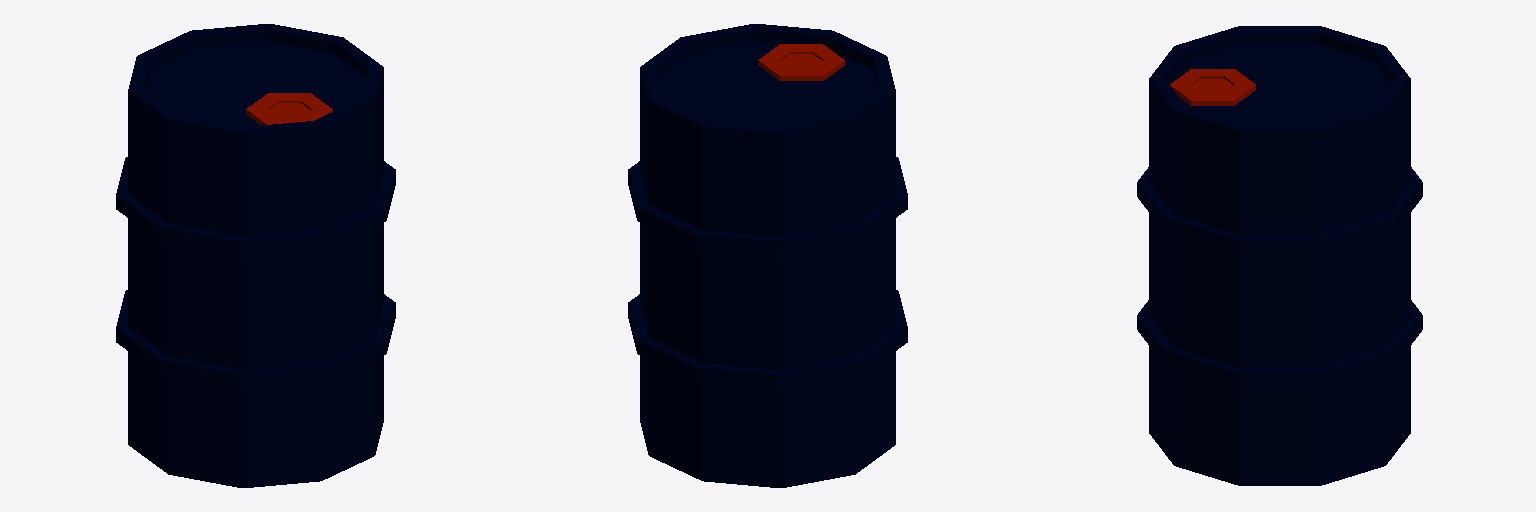
File: OilDrum_02.obj
3 renders of one model, left to right at view 1: azimuth 30°, elevation 25°; view 2: azimuth 150°, elevation 25°; view 3: azimuth 270°, elevation 25°, orthographic.
Visible parts, largest first — view 1: OilDrum_02_Cylinder.005; view 2: OilDrum_02_Cylinder.005; view 3: OilDrum_02_Cylinder.005.
Boxes of the visible parts, box(x1,y1,x2,y2) form: OilDrum_02_Cylinder.005: box(116, 24, 395, 487); OilDrum_02_Cylinder.005: box(628, 24, 907, 487); OilDrum_02_Cylinder.005: box(1137, 26, 1422, 485).
Size of the model in its own units: 3.26 by 4.7 by 3.43.